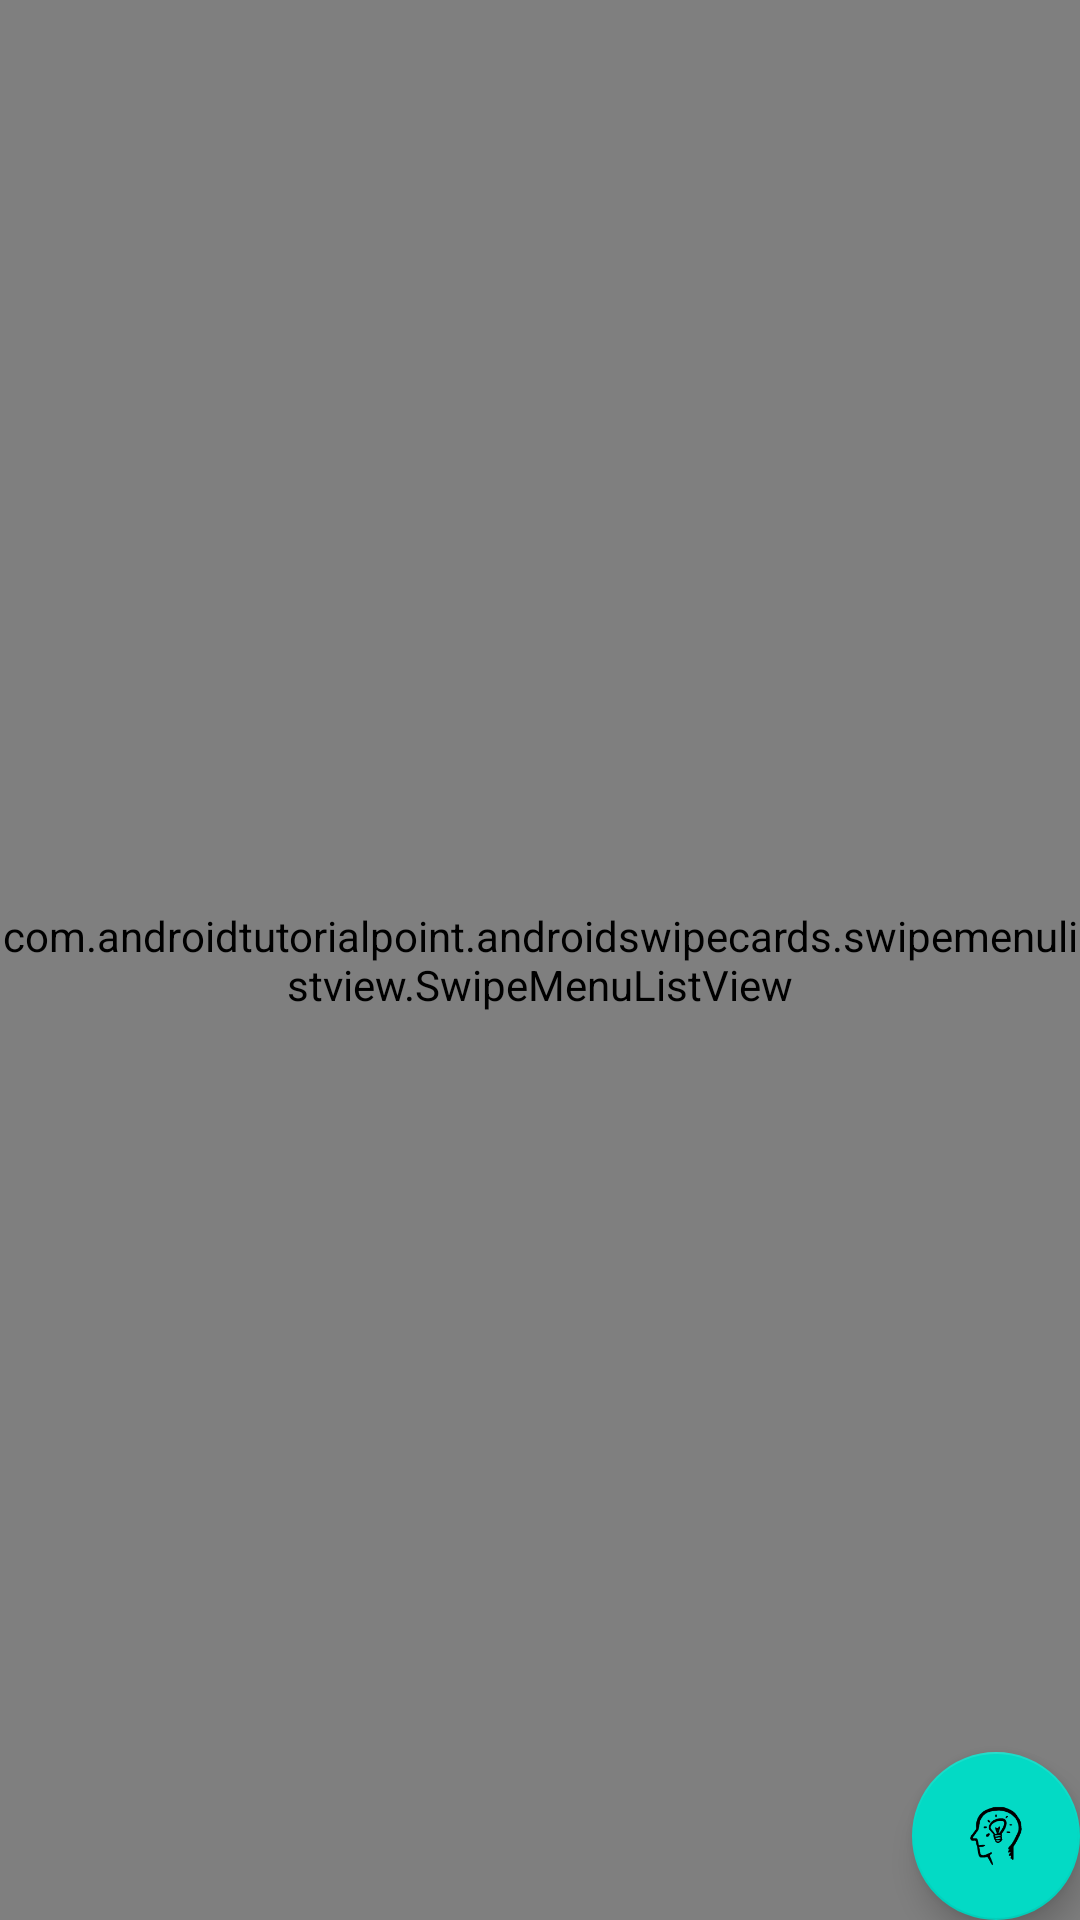

Icon click points for this 1080px x 1920px phone screenshot, format (x=x, y=y):
head: (x=996, y=1836)
